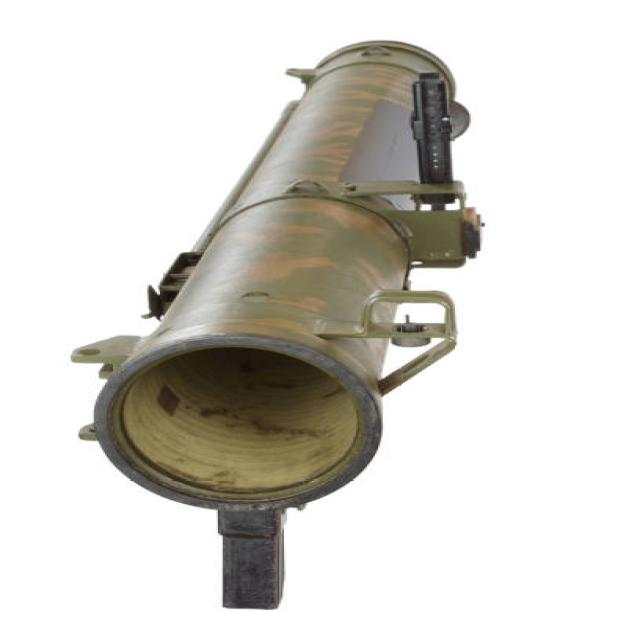bazooka: (64, 32, 500, 628)
